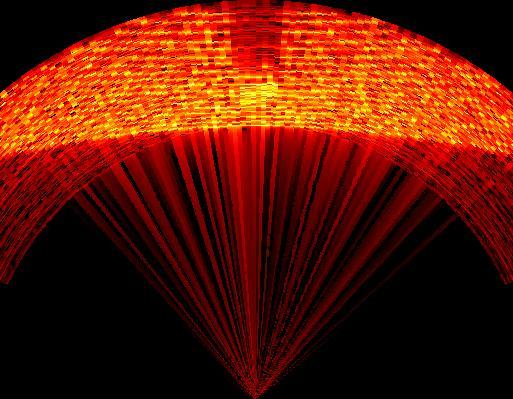box_crate: (222, 4, 288, 88)
